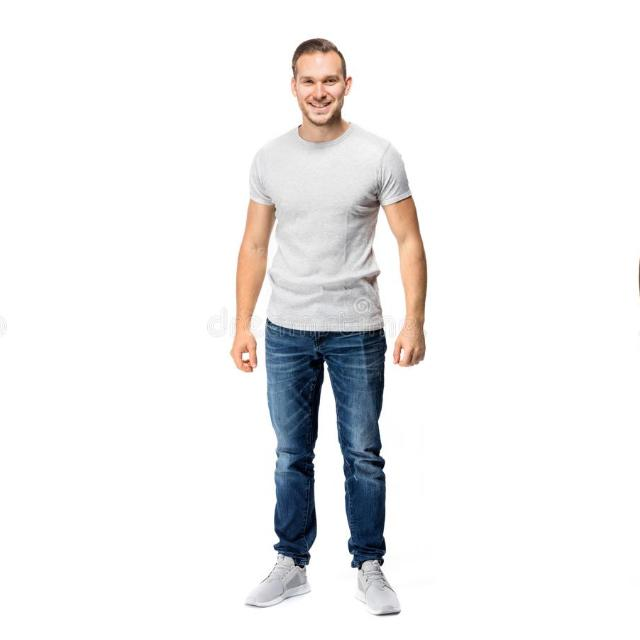person: (232, 31, 422, 631)
